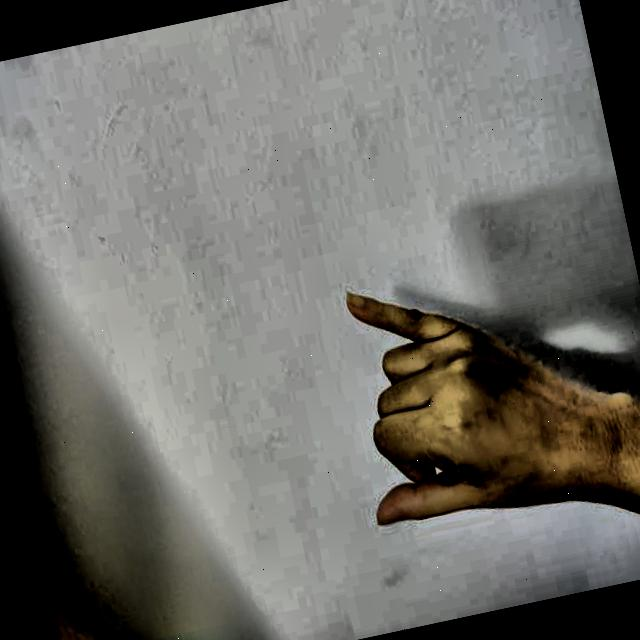Oi: (286, 216, 616, 587)
